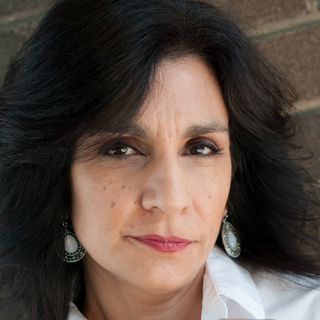eye: (91, 132, 151, 163), (175, 132, 223, 162)
